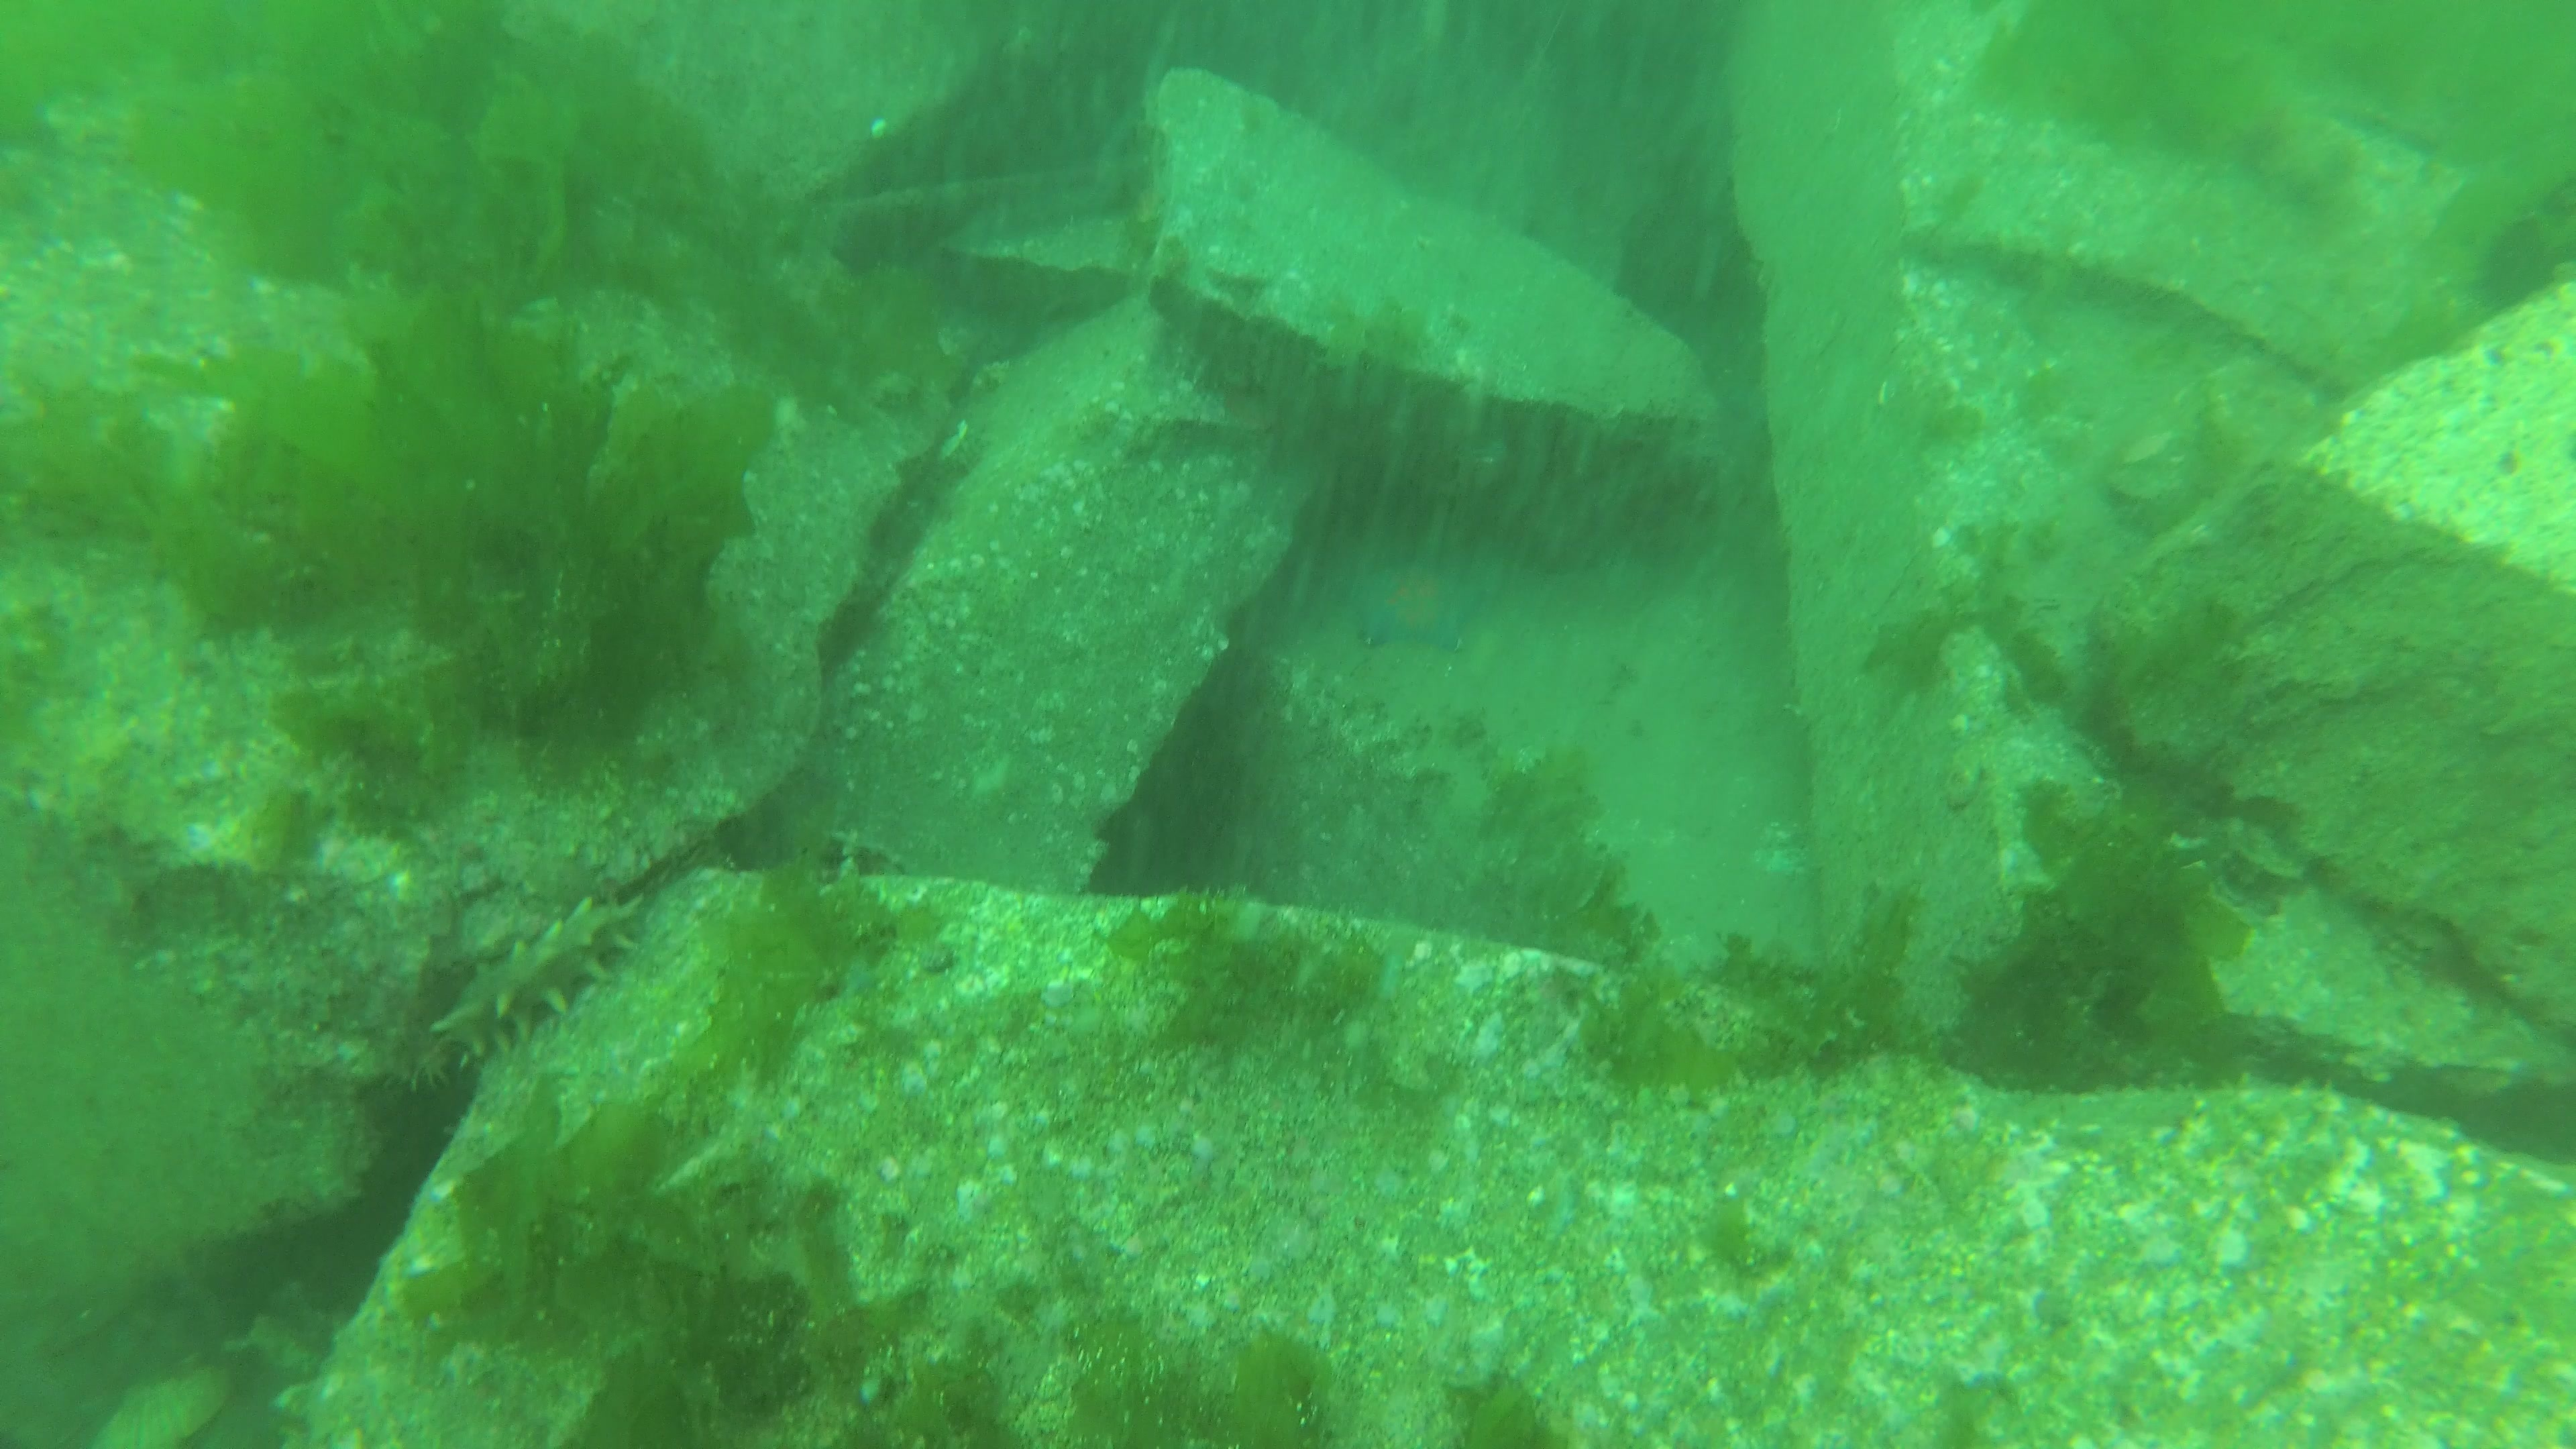echinus: (2473, 212, 2560, 311)
holothurian: (428, 888, 651, 1062)
scallop: (90, 1371, 235, 1449)
starfish: (1334, 554, 1491, 656), (1704, 396, 1769, 478)
